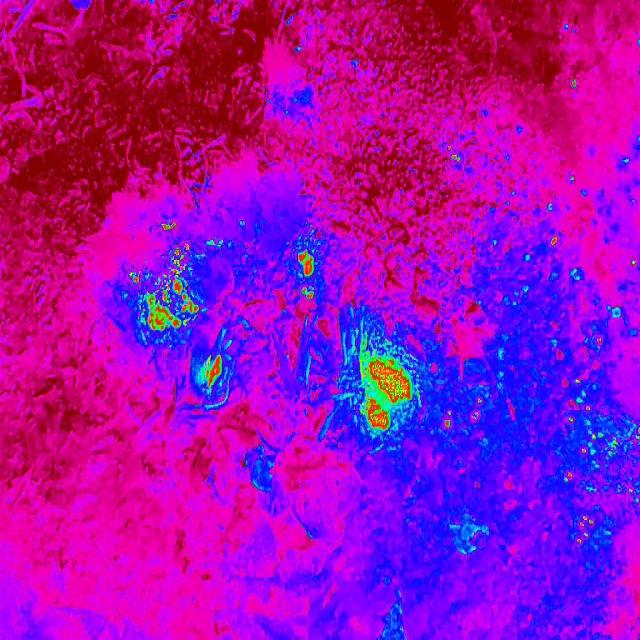fire: (541, 229, 640, 556), (127, 240, 206, 345), (354, 339, 416, 443), (289, 244, 322, 304), (442, 398, 489, 428), (198, 352, 224, 393), (157, 217, 180, 234), (446, 147, 464, 168)
